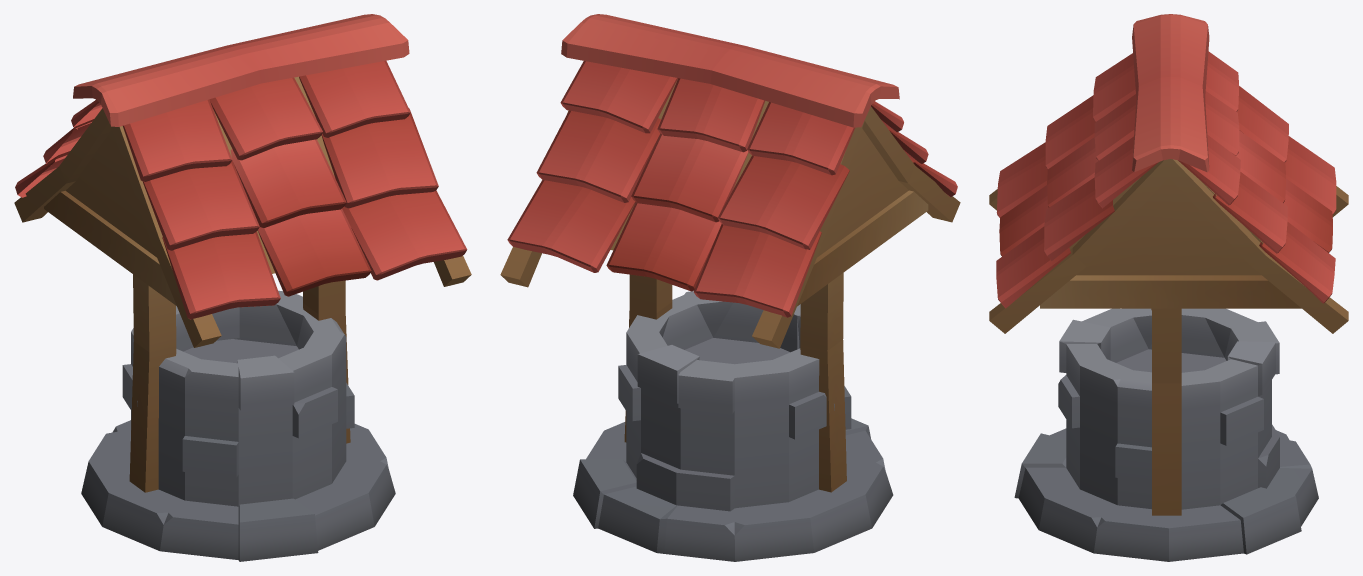
Rendered from Well.fbx.
3 views of the same model, side by side, from view 1: azimuth 30°, elevation 25°; view 2: azimuth 150°, elevation 25°; view 3: azimuth 270°, elevation 25° (orthographic). The views are drawn at different scales.
Visible parts, largest first — view 1: Well_LOD0; view 2: Well_LOD0; view 3: Well_LOD0.
Part boxes in pixels (x1=…): Well_LOD0: x1=14, y1=14, x2=471, y2=561; Well_LOD0: x1=500, y1=14, x2=960, y2=561; Well_LOD0: x1=989, y1=14, x2=1348, y2=561.
Size of what is drawn, in the model's own units: 2.76 by 3.91 by 3.01.
